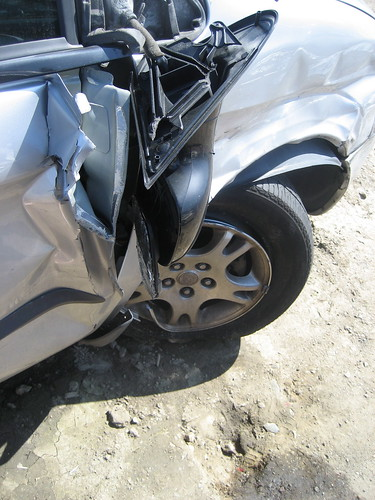car: (1, 1, 375, 406)
